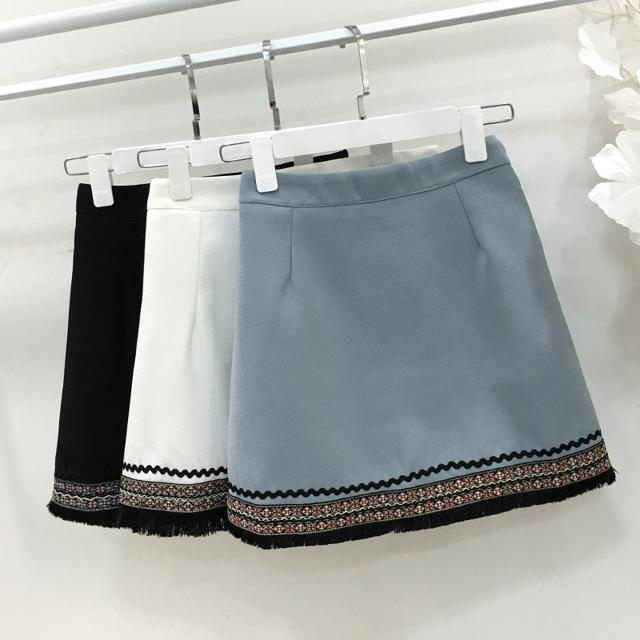Skirts: (228, 130, 624, 546)
